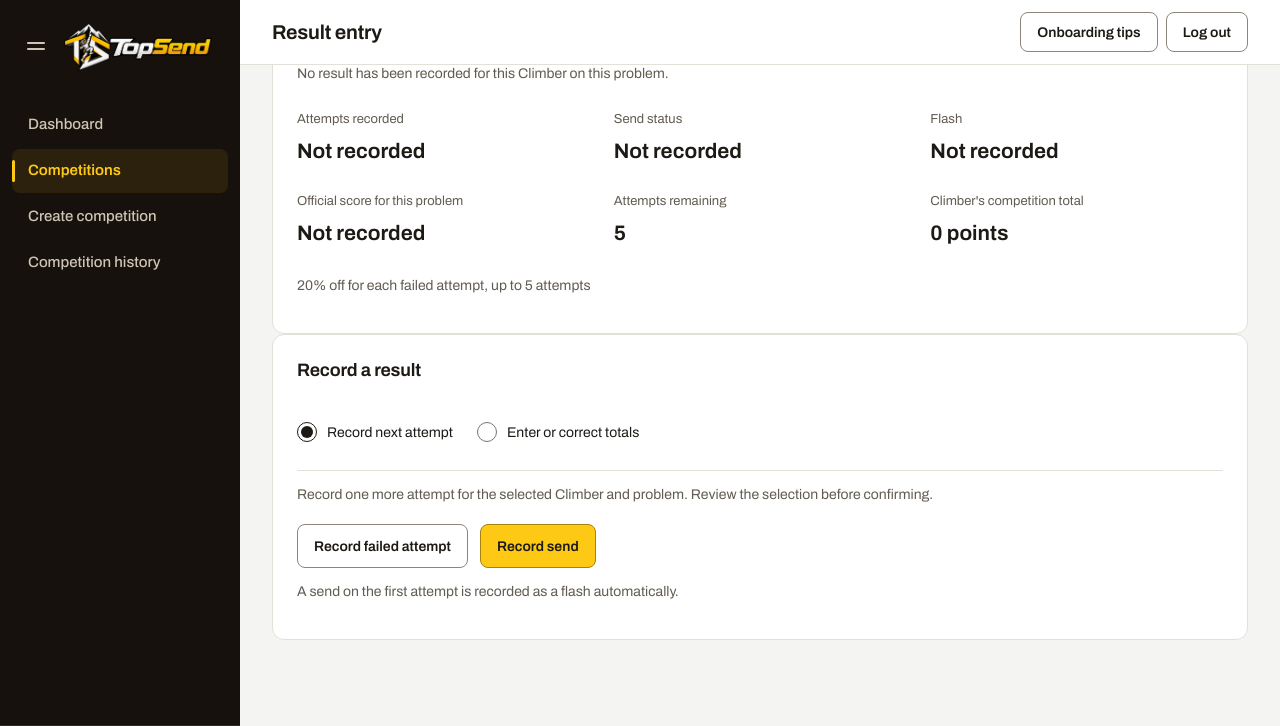
Test case: US-019 #167/#168 official result selection and input › confirms the selected pair and can cancel without recording an attempt
(page scrolled)
Expected: the heading "Saved official result" is shown, [297,28,458,48]
Click the button "Record failed attempt".
click(382, 546)  # box [297,524,468,568]
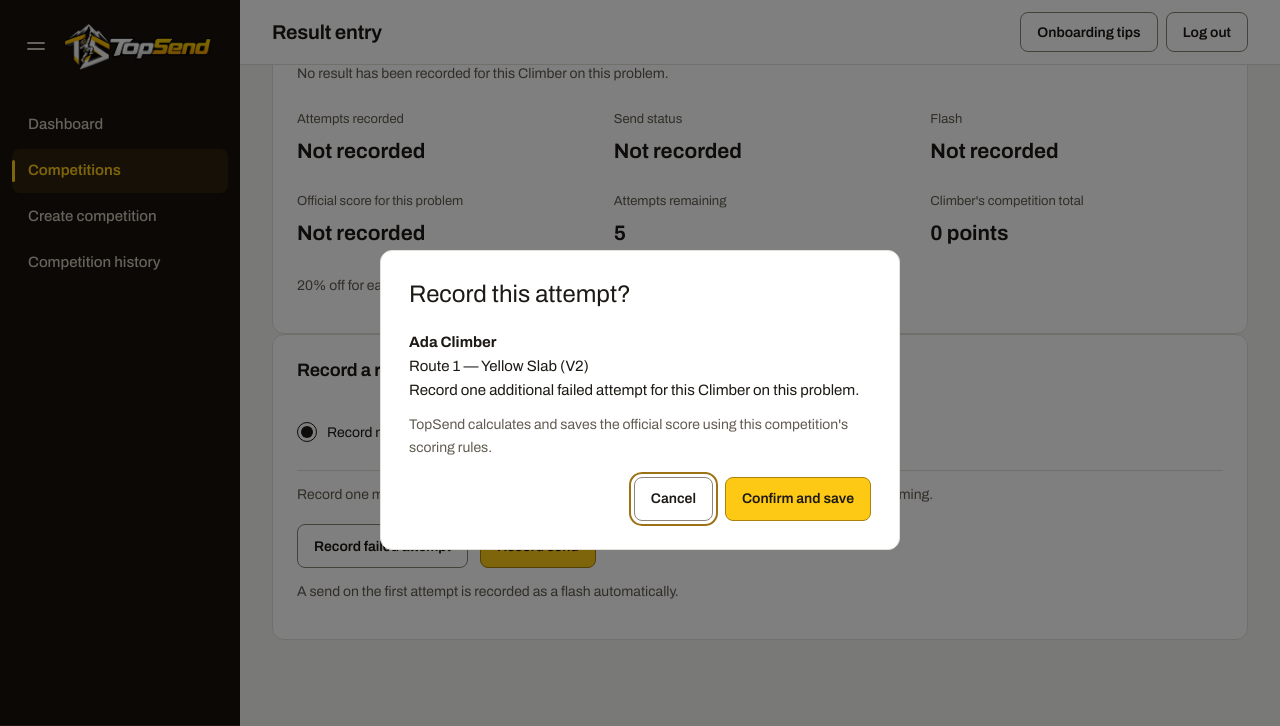
Now the text "Ada Climber" is shown, box [409,334,497,350]
Now the text "Route 1 — Yellow Slab (V2)" is shown, box [409,358,589,374]
Click the button "Cancel".
click(673, 499)  # box [634,477,713,521]
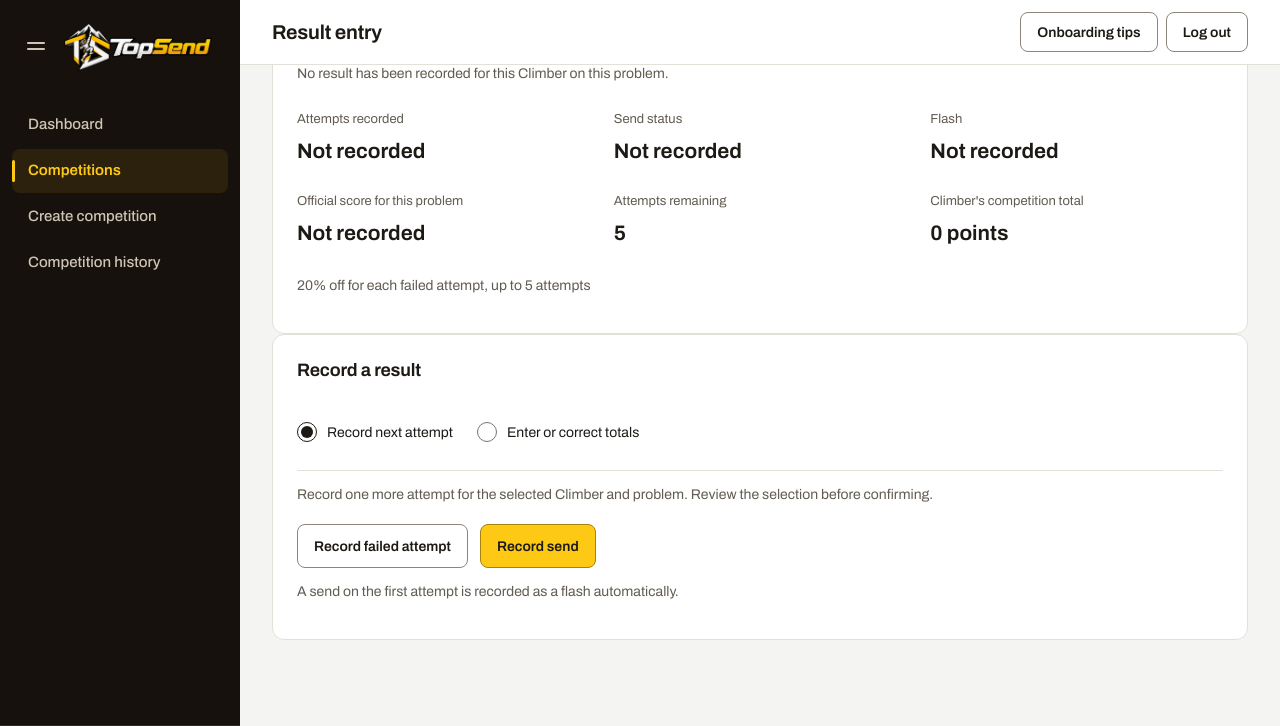
Now the dialog is gone
